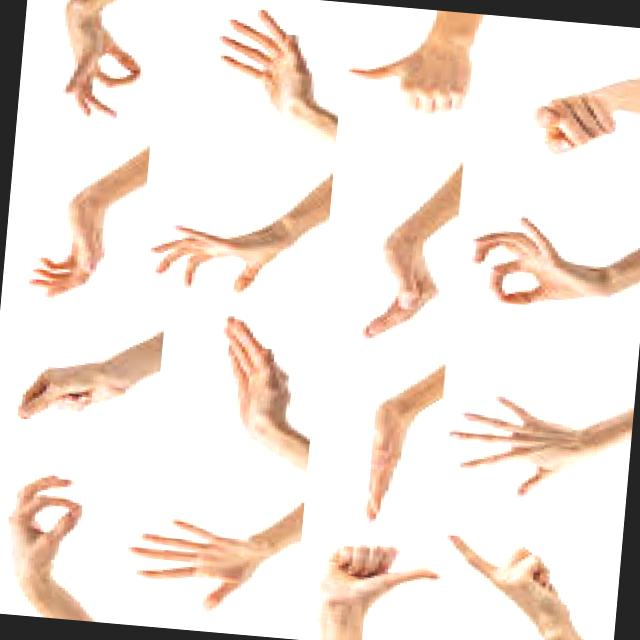Hand: (434, 387, 592, 506), (462, 206, 620, 318), (118, 508, 274, 618), (438, 525, 587, 640), (205, 0, 323, 123), (202, 311, 302, 446), (51, 1, 152, 126), (143, 214, 289, 300), (352, 231, 447, 348), (312, 533, 443, 613), (11, 349, 136, 432), (0, 465, 88, 582), (341, 44, 478, 117), (354, 394, 424, 530), (21, 204, 112, 307), (523, 82, 625, 162)
